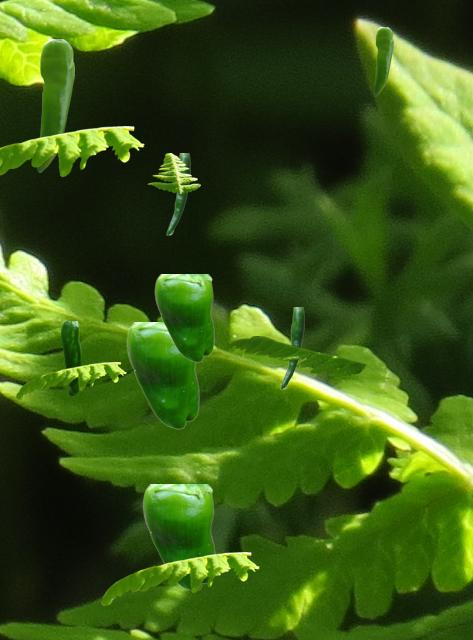green_chili: (142, 484, 214, 590), (126, 322, 198, 428), (154, 274, 213, 361), (37, 39, 73, 171), (166, 153, 189, 234), (280, 307, 303, 388), (61, 321, 80, 395), (374, 27, 392, 95)
